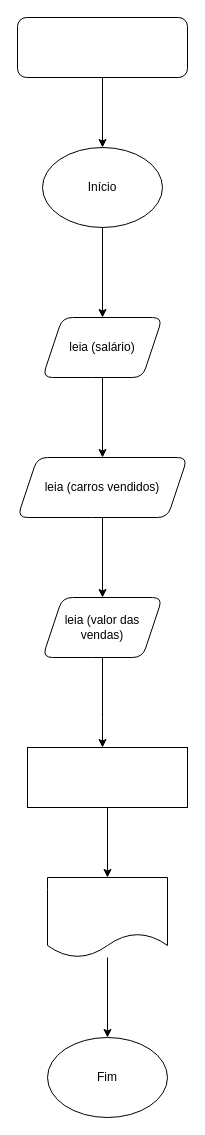
The diagram is 205 pixels wide and 1135 high, and some of its shapes have lost their labels. The box of each missing label's shape, as (x1, y1, x2, y2) in pixels:
CalculaSalario: (16, 16, 188, 78)
Salário Final: (46, 876, 168, 958)
Salário final = salário fixo + (comissão * CarrosVendidos + valorVendas * 0,05): (26, 746, 188, 808)
